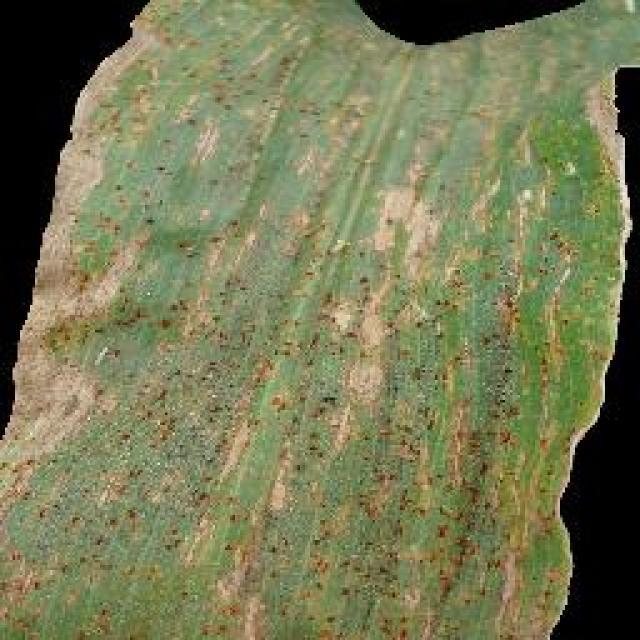Corn Common Rust: (183, 160, 505, 565)
